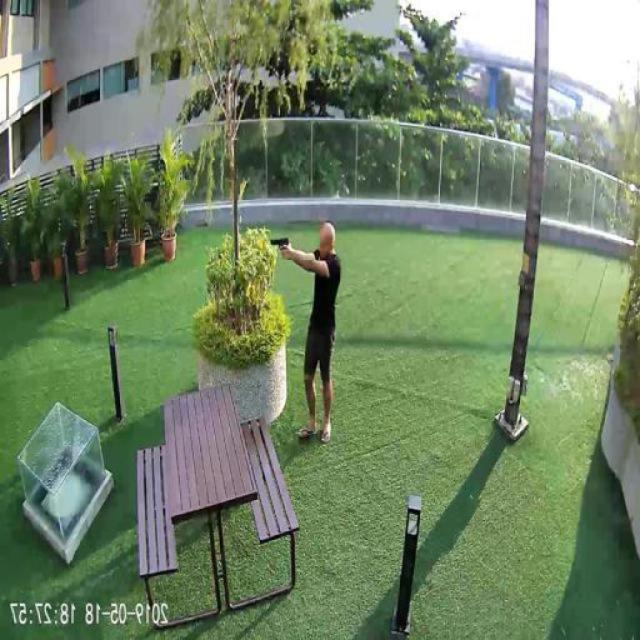pistol: (272, 235, 292, 260)
